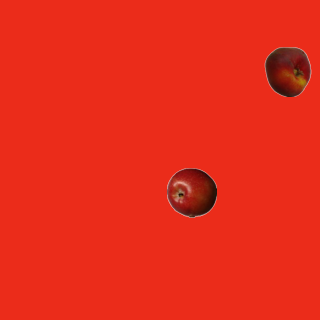Apple Braeburn: (166, 167, 216, 217)
Nectarine Flat: (262, 46, 312, 96)
